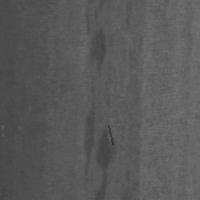inclusion: (82, 77, 116, 199), (79, 1, 108, 90), (106, 123, 114, 146)
